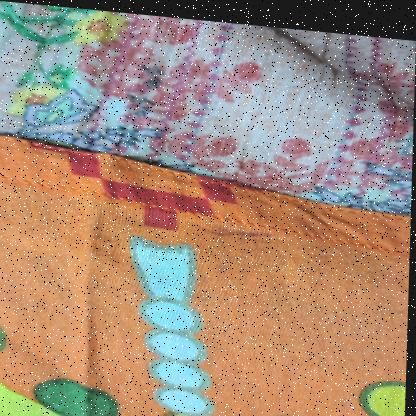spot: (185, 218, 285, 239)
